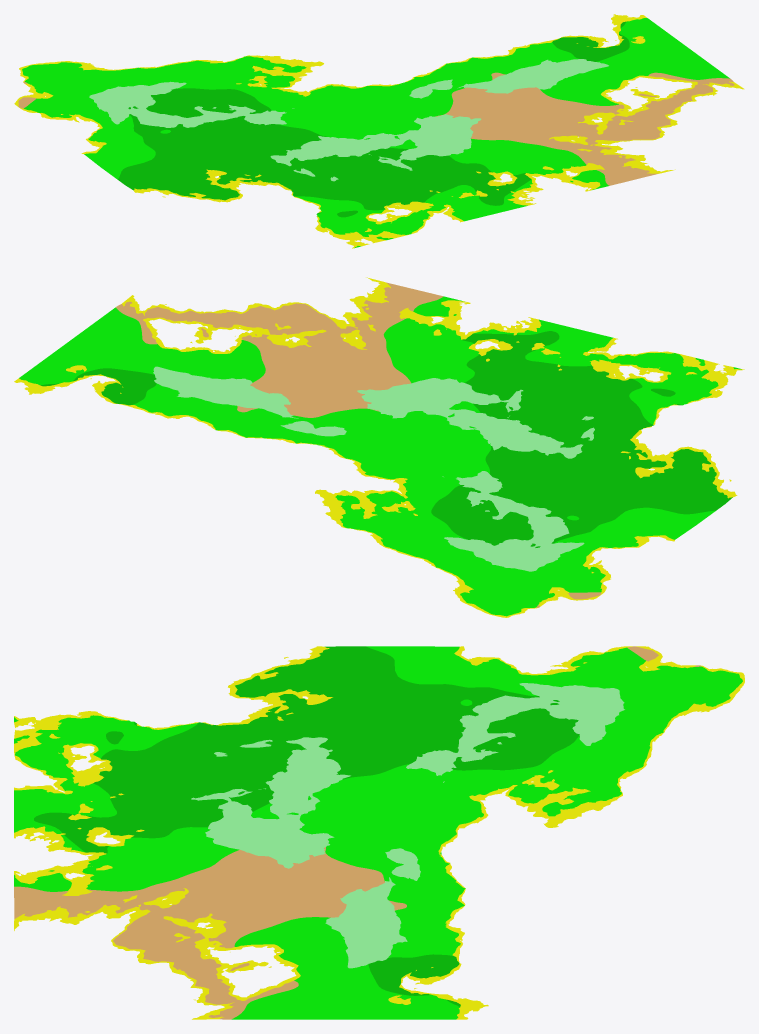
Rendered from island.gltf.
3 renders of one model, top to bottom at view 1: azimuth 30°, elevation 25°; view 2: azimuth 150°, elevation 25°; view 3: azimuth 270°, elevation 25°, orthographic. The views are drawn at different scales.
Parts seen in each view (by area): view 1: island; view 2: island; view 3: island.
Part boxes in pixels (bbox=[...]): island: bbox=[14, 14, 744, 248]; island: bbox=[14, 277, 744, 617]; island: bbox=[14, 646, 744, 1019].
Size of the model in its own units: 1084 by 0 by 896.
